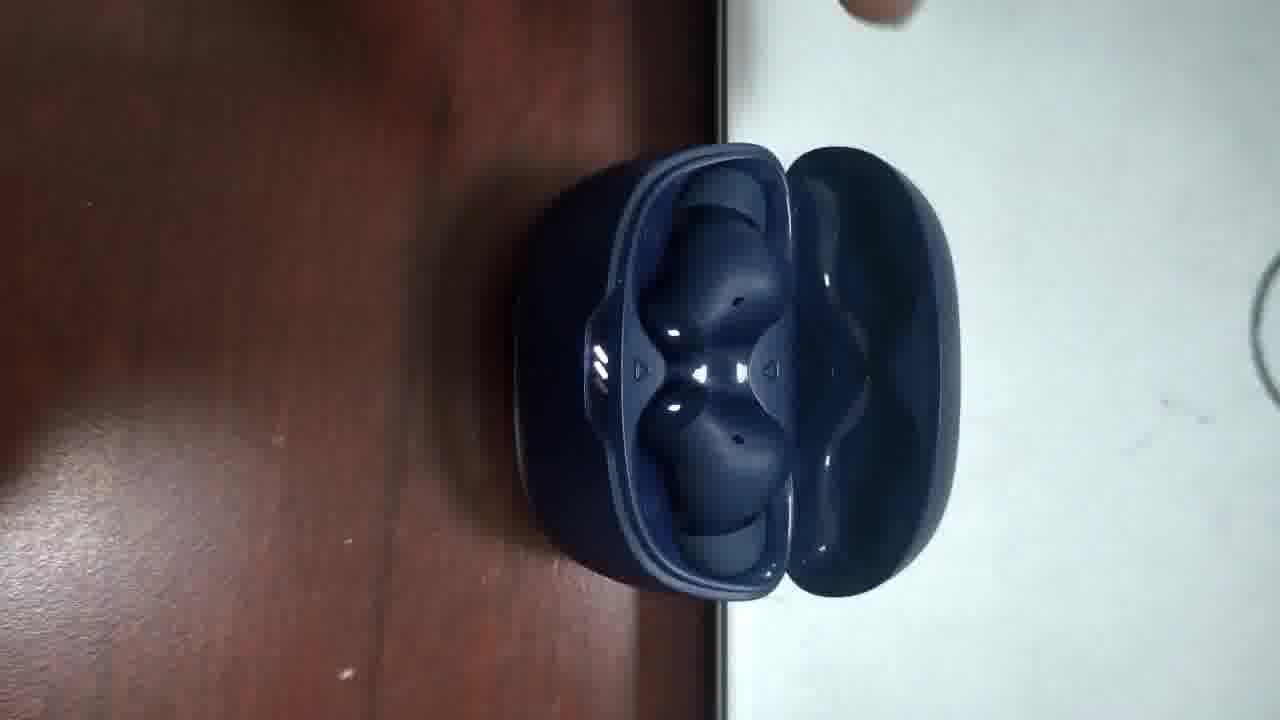Earbud: (639, 166, 790, 577), (640, 382, 787, 576), (640, 167, 787, 347)
